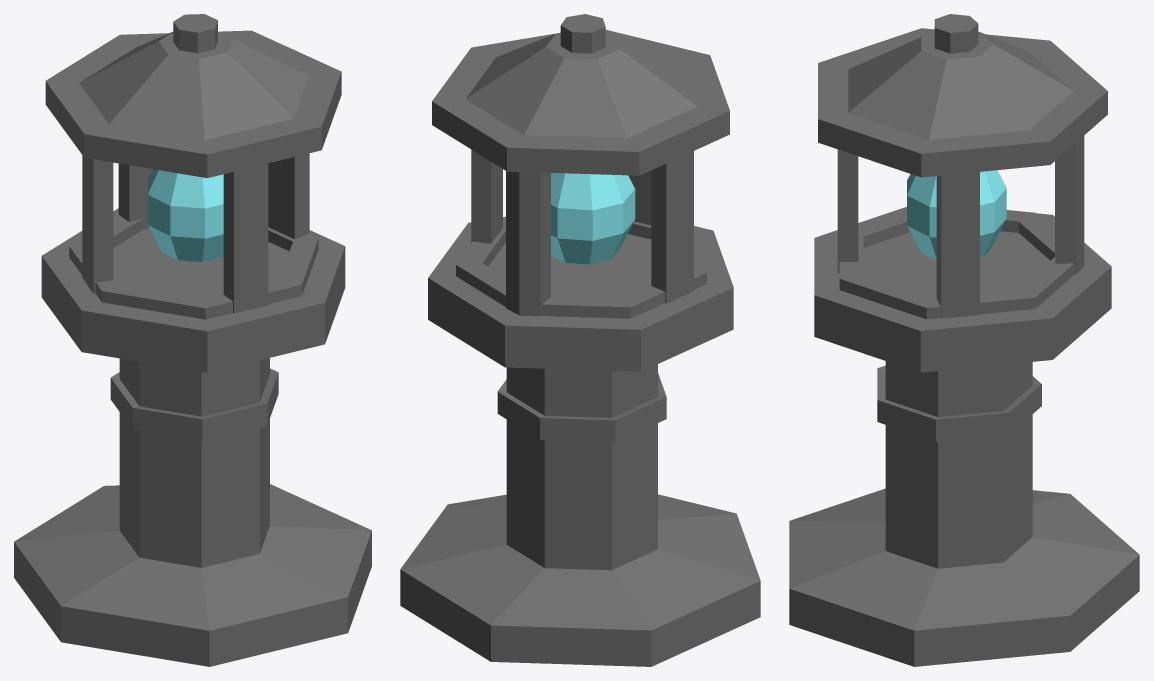
File: lamp.glb
3 renders of one model, left to right at view 1: azimuth 30°, elevation 25°; view 2: azimuth 150°, elevation 25°; view 3: azimuth 270°, elevation 25°, orthographic.
Parts seen in each view (by area): view 1: Cube.003, Sphere; view 2: Cube.003, Sphere; view 3: Cube.003, Sphere.
Boxes of the visible parts, box(x1,y1,x2,y2) form: Cube.003: box(14, 14, 371, 666); Sphere: box(148, 169, 223, 261); Cube.003: box(400, 14, 760, 666); Sphere: box(551, 173, 635, 264); Cube.003: box(789, 14, 1139, 666); Sphere: box(907, 170, 1006, 260).
Bounding box in the file's own units: 0.5532 × 0.9631 × 0.5393.
